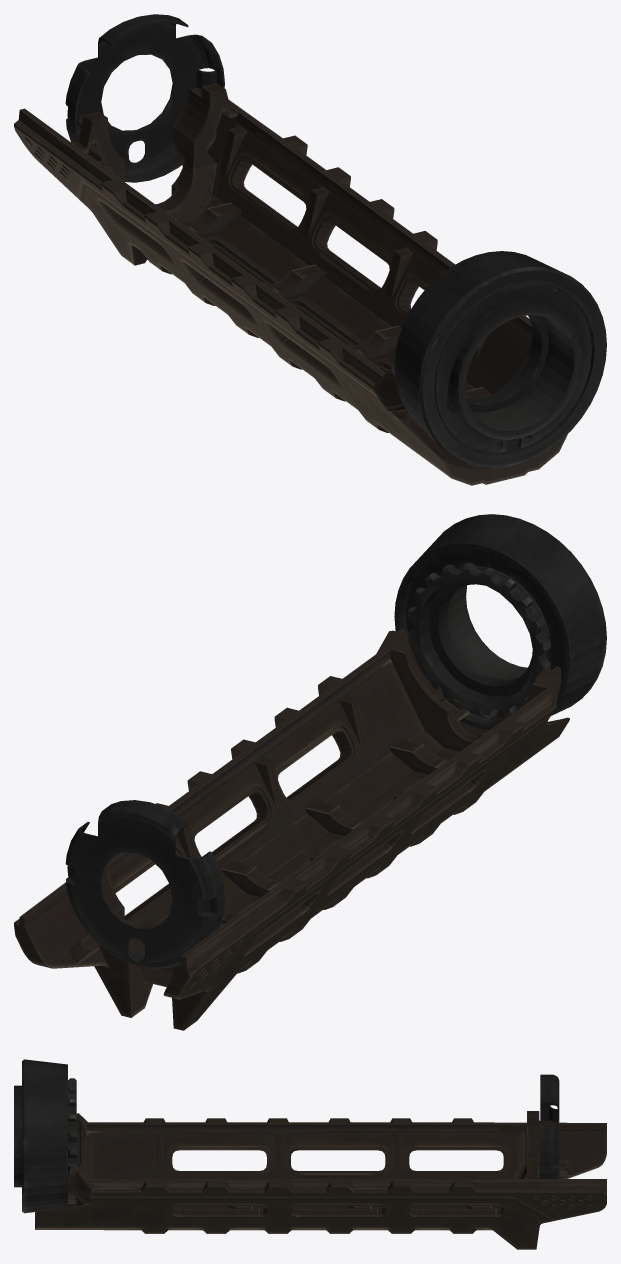
The picture shows the model from 3 angles, top to bottom: view 1: azimuth 30°, elevation 25°; view 2: azimuth 150°, elevation 25°; view 3: azimuth 270°, elevation 25°; orthographic projection. The views are drawn at different scales.
Visible parts, largest first — view 1: TW_5d00f63bd7ad1a59283b1c1e_PZ_Import; view 2: TW_5d00f63bd7ad1a59283b1c1e_PZ_Import; view 3: TW_5d00f63bd7ad1a59283b1c1e_PZ_Import.
Part boxes in pixels (box(x1,y1,x2,y2)): TW_5d00f63bd7ad1a59283b1c1e_PZ_Import: box(14, 14, 606, 485); TW_5d00f63bd7ad1a59283b1c1e_PZ_Import: box(14, 514, 606, 1030); TW_5d00f63bd7ad1a59283b1c1e_PZ_Import: box(14, 1059, 606, 1249).
Bounding box in the file's own units: 0.0311 × 0.1158 × 0.0371.
Materials: 1 (1 with a texture image).
